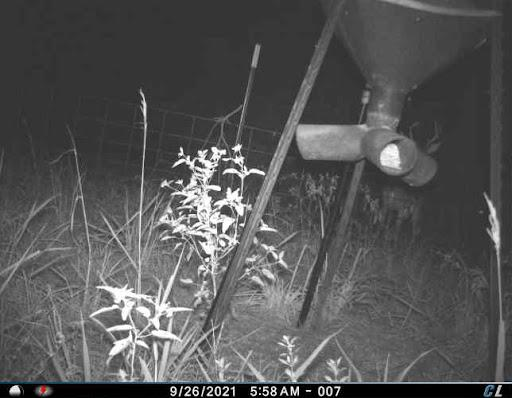Deer: (367, 112, 456, 242)
